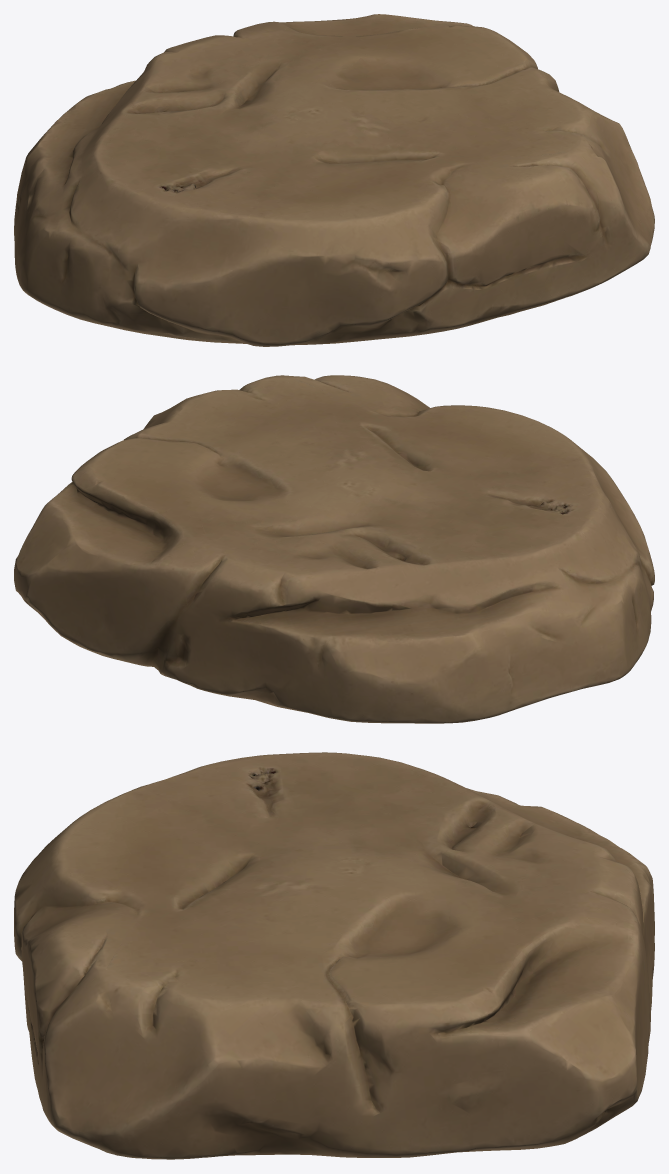
File: qaval-dash.glb
3 views of the same model, one above another, from view 1: azimuth 30°, elevation 25°; view 2: azimuth 150°, elevation 25°; view 3: azimuth 270°, elevation 25° (orthographic). The views are drawn at different scales.
Parts seen in each view (by area): view 1: geom0; view 2: geom0; view 3: geom0.
Part boxes in pixels (x1=…): geom0: x1=14, y1=14, x2=654, y2=346; geom0: x1=14, y1=375, x2=654, y2=723; geom0: x1=14, y1=752, x2=654, y2=1159.
Bounding box in the file's own units: 2 × 0.4754 × 1.7.
Materials: 1 (1 with a texture image).
